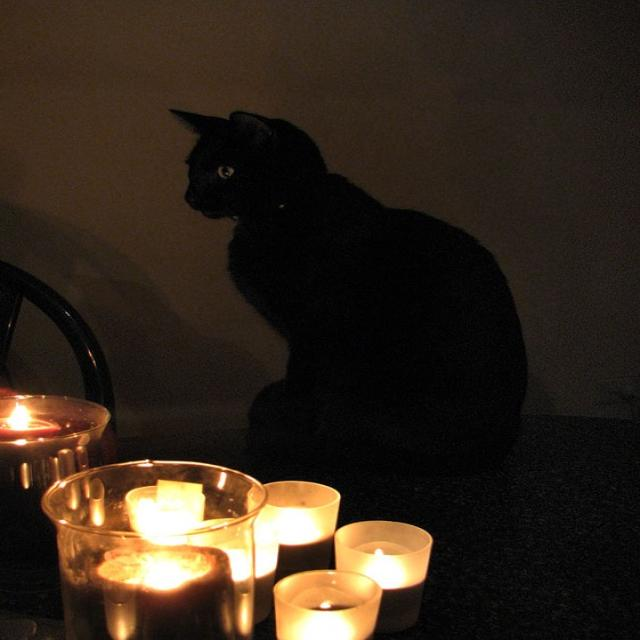Cat: (159, 89, 570, 488)
Cup: (44, 459, 309, 615), (1, 379, 131, 545)
Table: (38, 384, 640, 640)
chair: (0, 254, 129, 442)
